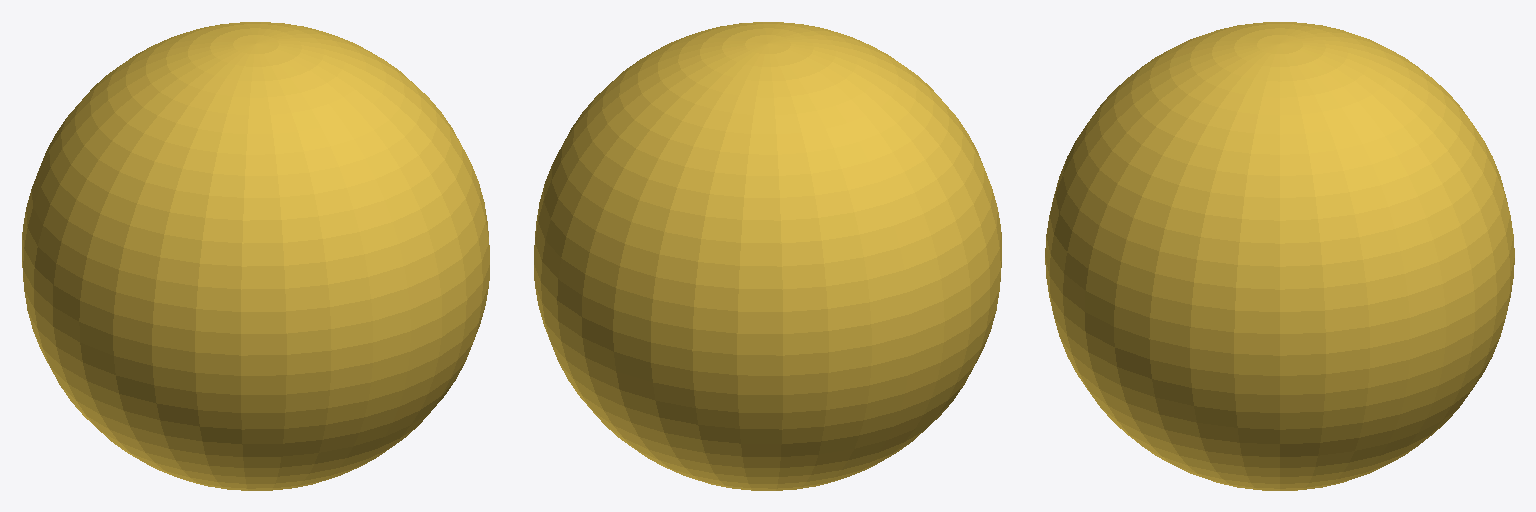
Rendered from sphere_brass.obj.
3 renders of one model, left to right at view 1: azimuth 30°, elevation 25°; view 2: azimuth 150°, elevation 25°; view 3: azimuth 270°, elevation 25°, orthographic.
Parts seen in each view (by area): view 1: sphere_triangulated; view 2: sphere_triangulated; view 3: sphere_triangulated.
Boxes of the visible parts, <box> form: sphere_triangulated: <box>22,22,489,490</box>; sphere_triangulated: <box>534,22,1001,490</box>; sphere_triangulated: <box>1045,22,1514,490</box>.
Size of the model in its own units: 2 by 2 by 2.